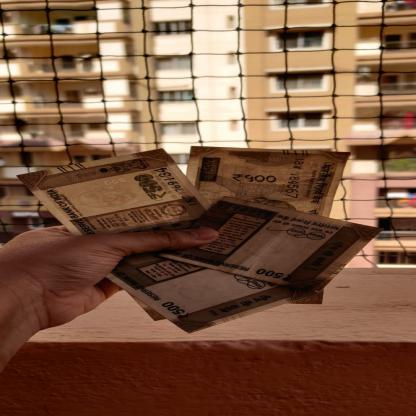New500Back: (157, 196, 385, 289), (105, 250, 324, 334)
New500Front: (8, 148, 212, 322), (186, 146, 354, 305)
